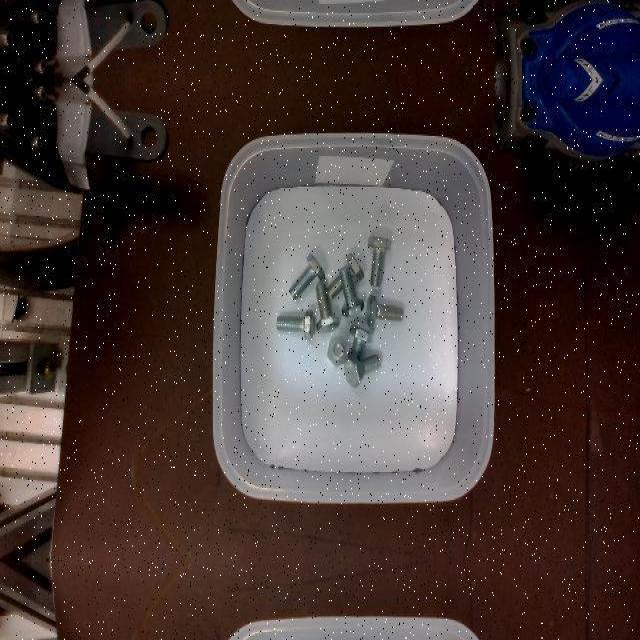screw: (289, 253, 326, 299), (344, 354, 382, 388), (363, 294, 403, 326), (339, 267, 363, 317), (317, 282, 340, 332), (368, 236, 391, 286), (276, 310, 314, 340), (327, 335, 349, 365)
